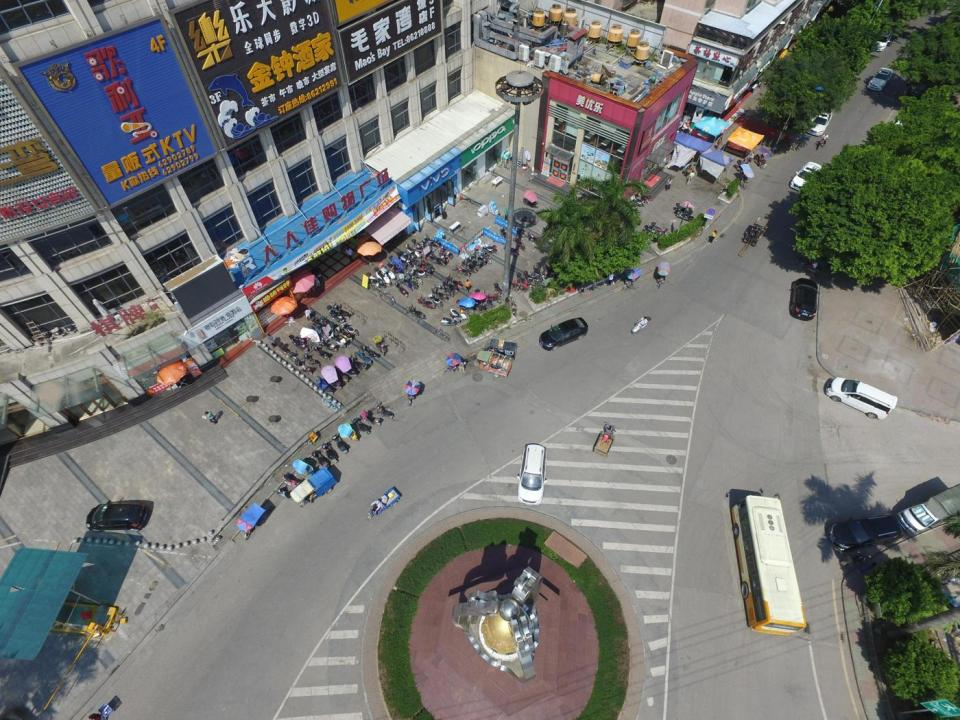bus: (725, 488, 807, 636)
car: (828, 515, 903, 552), (86, 499, 146, 533), (516, 444, 547, 506), (539, 317, 588, 350), (788, 278, 820, 320), (789, 162, 822, 192), (806, 109, 832, 136), (868, 68, 896, 89), (873, 30, 893, 53)
van: (897, 482, 960, 535), (826, 376, 897, 420), (485, 337, 516, 359)
